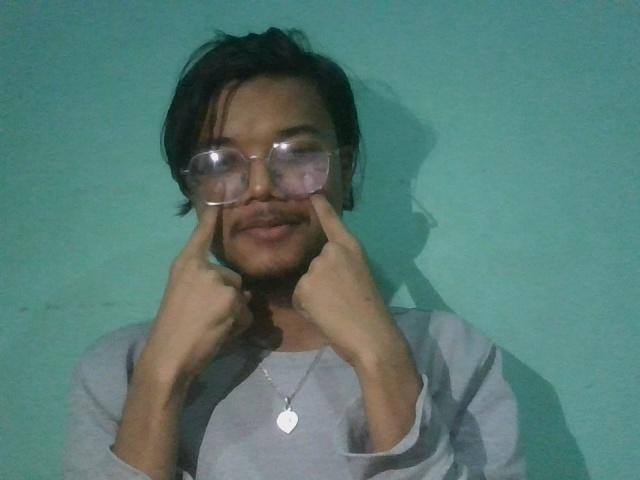Cry: (138, 175, 430, 404)
